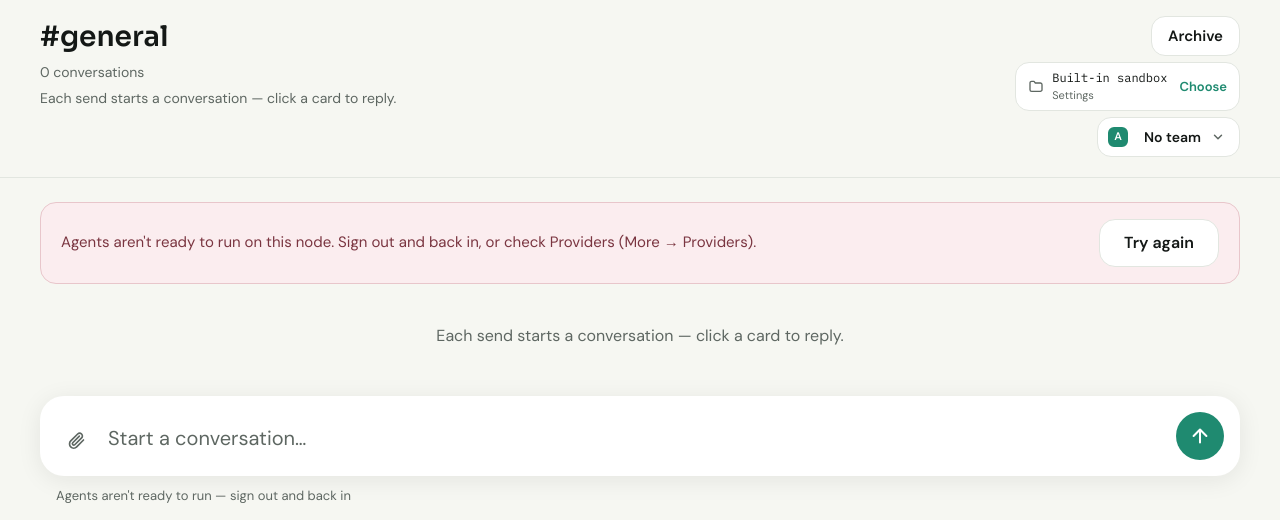
Test: channels/[id]/+page.svelte › changes the routed team via the team chip menu
What coordinates should you click on to do the following:
click the button "No team"
I would click on:
 (1184, 136)
Its box is [1130, 116, 1239, 156].
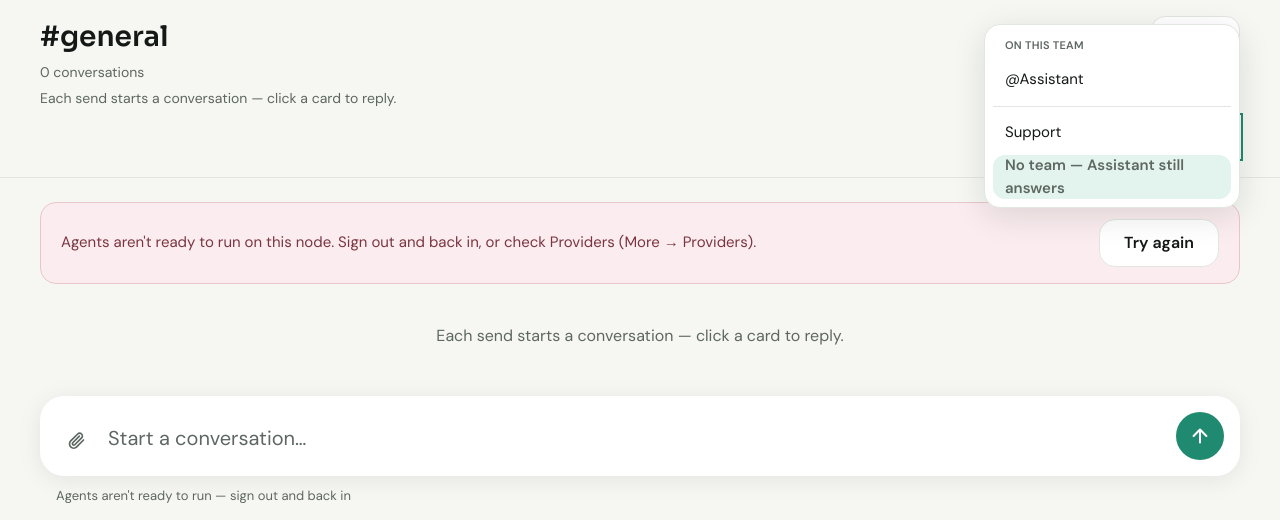
What coordinates should you click on to do the following:
click the menu item "Support"
I would click on:
 (1112, 132)
Its box is [993, 110, 1231, 154].
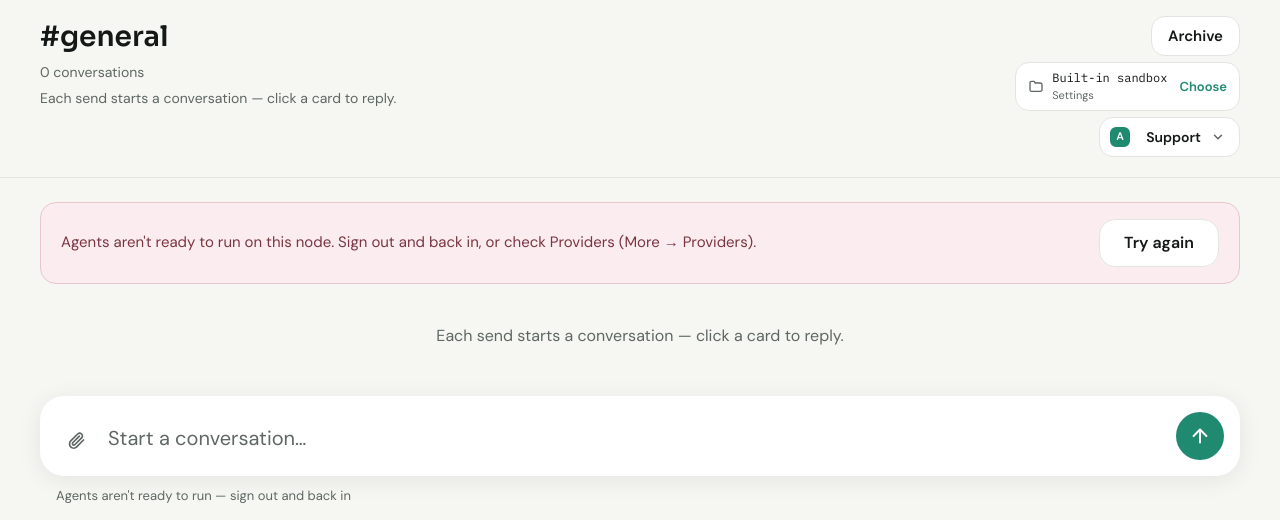
Now the button "Support" is shown, box [1132, 116, 1239, 156]
